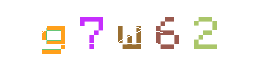2: (134, 0, 214, 80)
6: (109, 0, 189, 80)
7: (52, 0, 132, 80)
G: (14, 0, 94, 80)
W: (98, 0, 178, 80)
